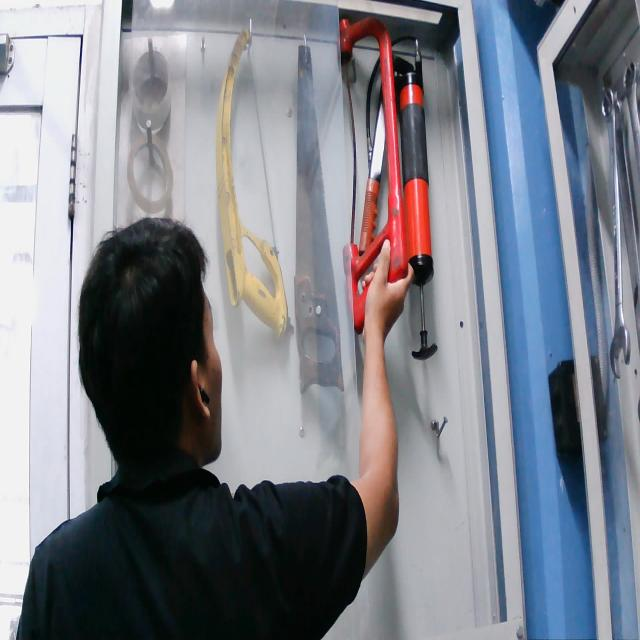gergaji_besi: (336, 14, 412, 336)
